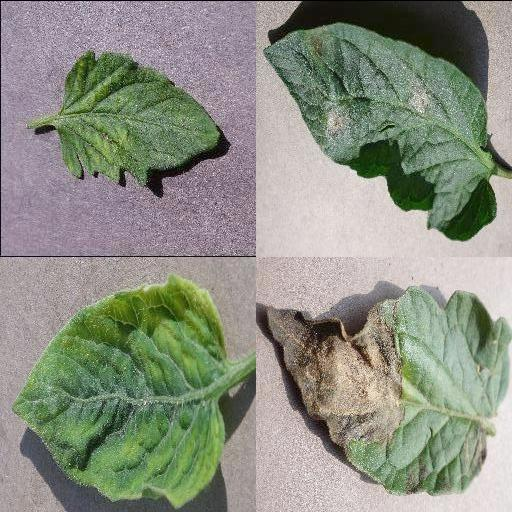Late Blight: (264, 284, 512, 496), (263, 20, 497, 240)
Mosaic Virus: (56, 49, 222, 187)
Yellow Leaf Curl Virus: (9, 268, 229, 506)
